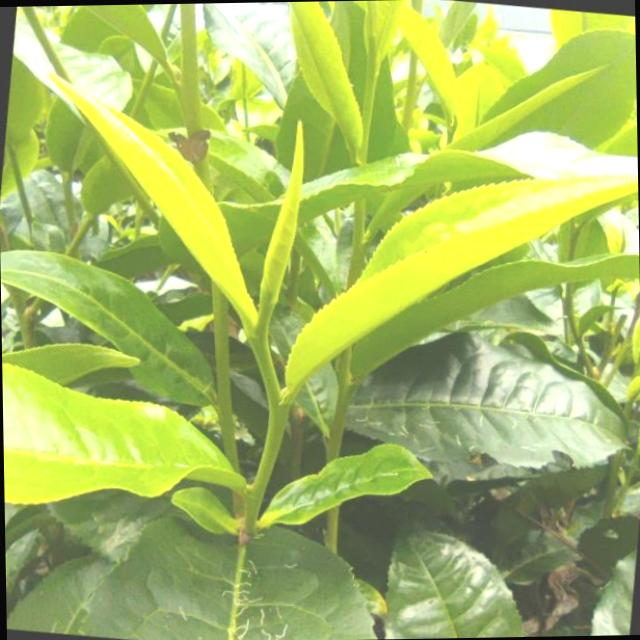Stem: (267, 395, 287, 424)
